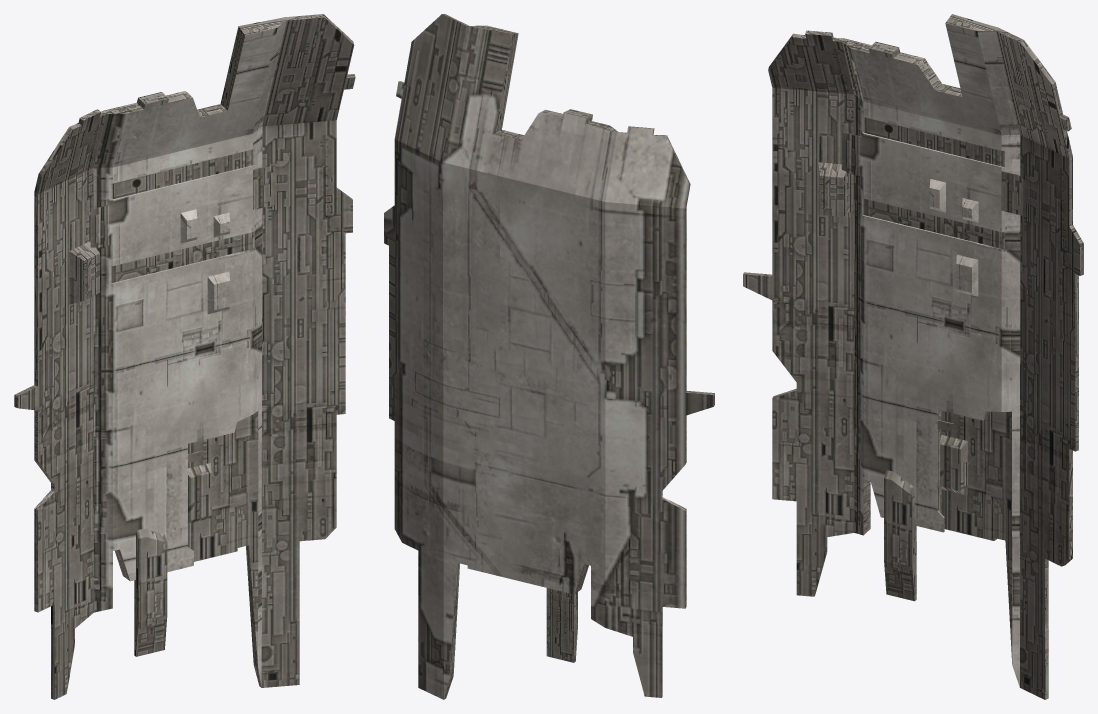
The model's file is Gate_02_Derelict_12_0.glb.
3 views of the same model, side by side, from view 1: azimuth 30°, elevation 25°; view 2: azimuth 150°, elevation 25°; view 3: azimuth 330°, elevation 25° (orthographic). The views are drawn at different scales.
Visible parts, largest first — view 1: Gate_02_Derelict_12; view 2: Gate_02_Derelict_12; view 3: Gate_02_Derelict_12.
Boxes of the visible parts, box(x1,y1,x2,y2) form: Gate_02_Derelict_12: box(14, 14, 355, 699); Gate_02_Derelict_12: box(384, 14, 714, 699); Gate_02_Derelict_12: box(743, 14, 1083, 699).
Bounding box in the file's own units: 13.2 × 25.47 × 2.24.
Materials: 1 (1 with a texture image).
